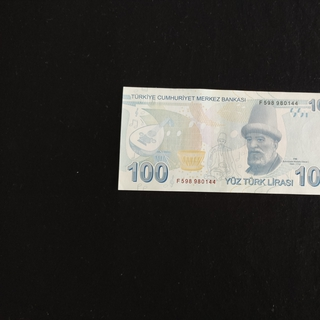100TLBack: (117, 86, 320, 196)
